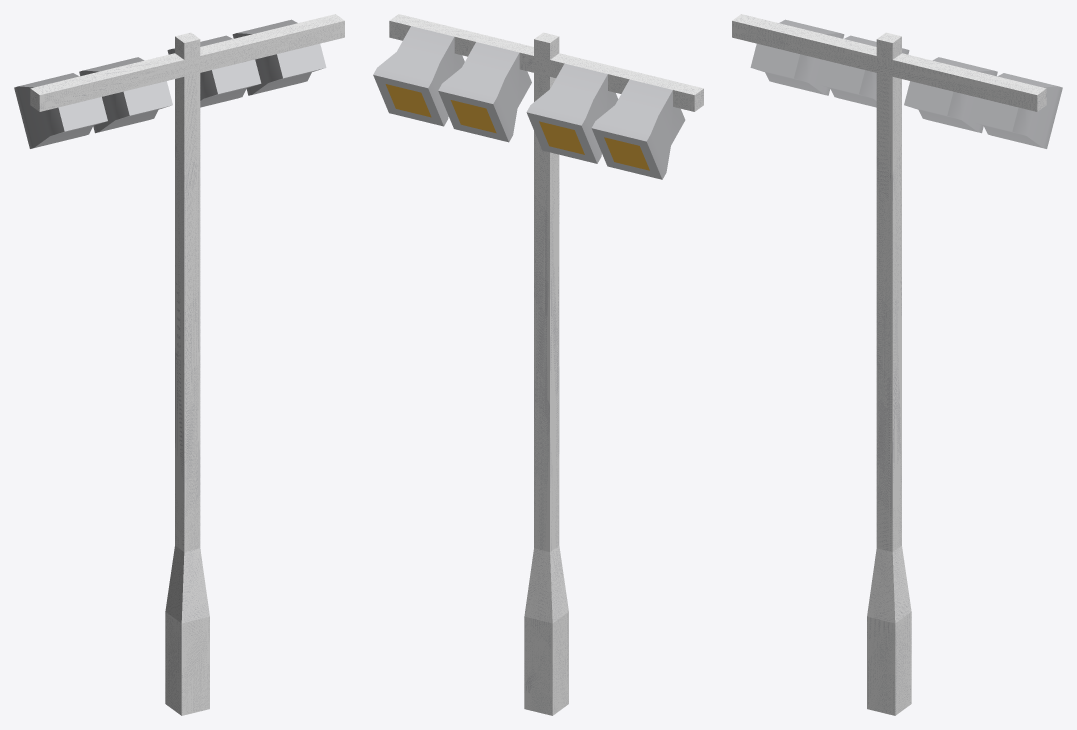
The model's file is lightPostLarge_exclusive.obj.
3 renders of one model, left to right at view 1: azimuth 30°, elevation 25°; view 2: azimuth 150°, elevation 25°; view 3: azimuth 330°, elevation 25°, orthographic.
Visible parts, largest first — view 1: lightPostLarge_exclusive; view 2: lightPostLarge_exclusive; view 3: lightPostLarge_exclusive.
Part boxes in pixels (x1,y1,x2,y2): lightPostLarge_exclusive: [14, 14, 344, 715]; lightPostLarge_exclusive: [373, 14, 703, 715]; lightPostLarge_exclusive: [732, 14, 1062, 715].
Size of the model in its own units: 3.8 by 7.96 by 0.9706.
